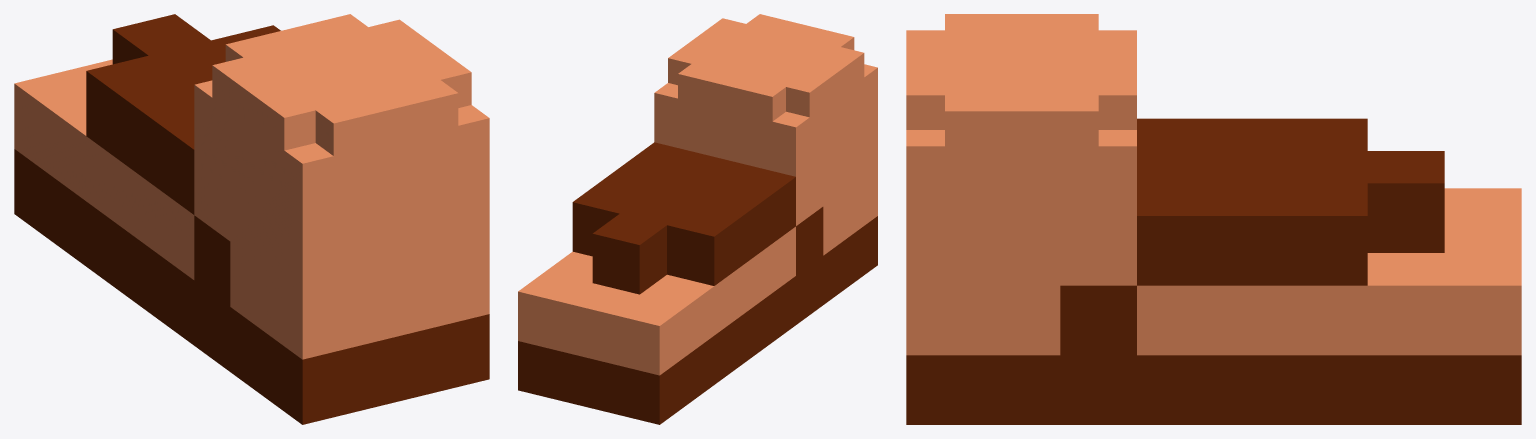
Rendered from pedroFODA-2.obj.
3 renders of one model, left to right at view 1: azimuth 30°, elevation 25°; view 2: azimuth 150°, elevation 25°; view 3: azimuth 270°, elevation 25°, orthographic. The views are drawn at different scales.
Bounding box in the file's own units: 0.6 × 0.9 × 1.6.
Materials: 1 (1 with a texture image).
